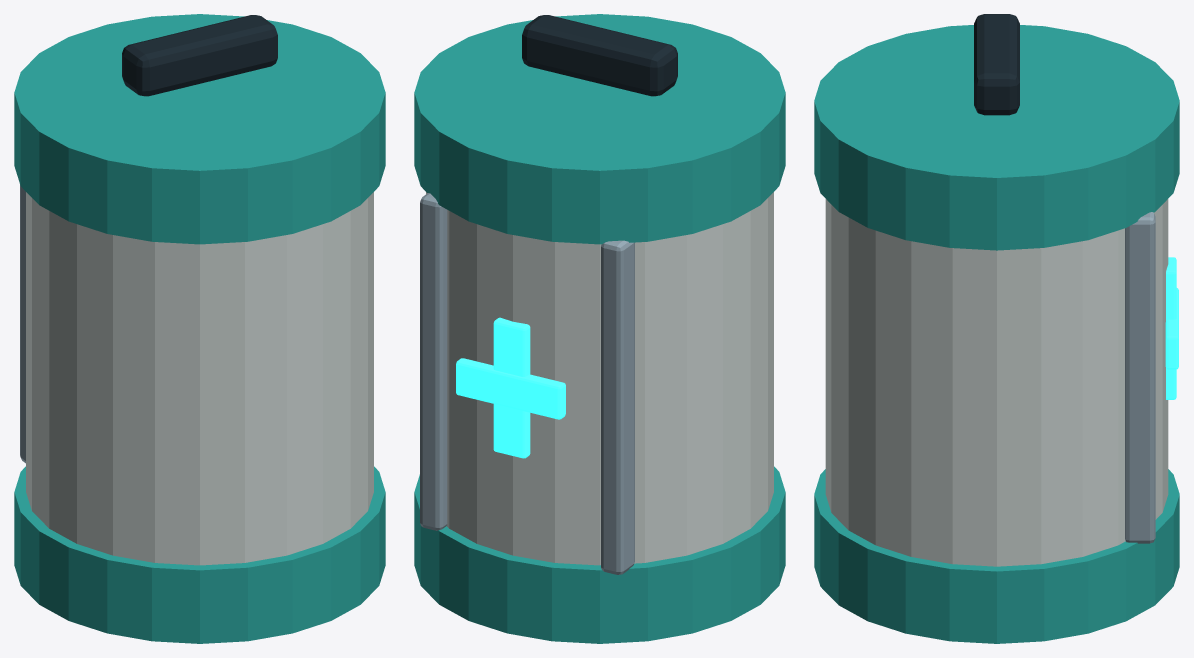
Rendered from medical_capsule.glb.
3 renders of one model, left to right at view 1: azimuth 30°, elevation 25°; view 2: azimuth 150°, elevation 25°; view 3: azimuth 270°, elevation 25°, orthographic.
Visible parts, largest first — view 1: Geometry_medical_capsule; view 2: Geometry_medical_capsule; view 3: Geometry_medical_capsule.
Part boxes in pixels (x1,y1,x2,y2): Geometry_medical_capsule: (14, 14, 385, 643); Geometry_medical_capsule: (414, 14, 785, 643); Geometry_medical_capsule: (814, 14, 1179, 643).
Bounding box in the file's own units: 0.64 × 1.01 × 0.64.
